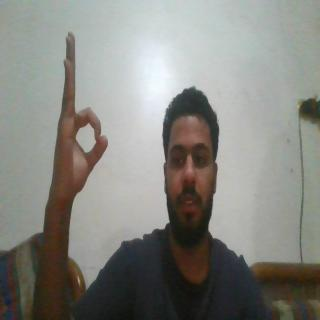Space: (48, 27, 110, 219)
